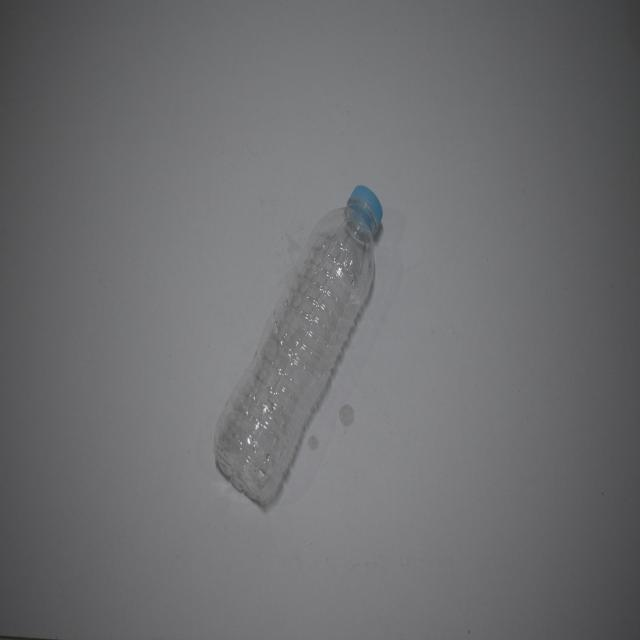bottle: (204, 160, 389, 518)
